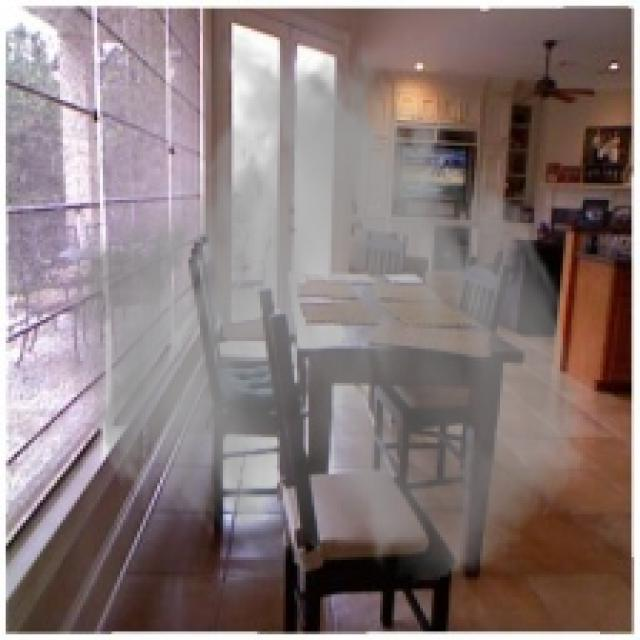Smoke: (59, 31, 592, 586)
